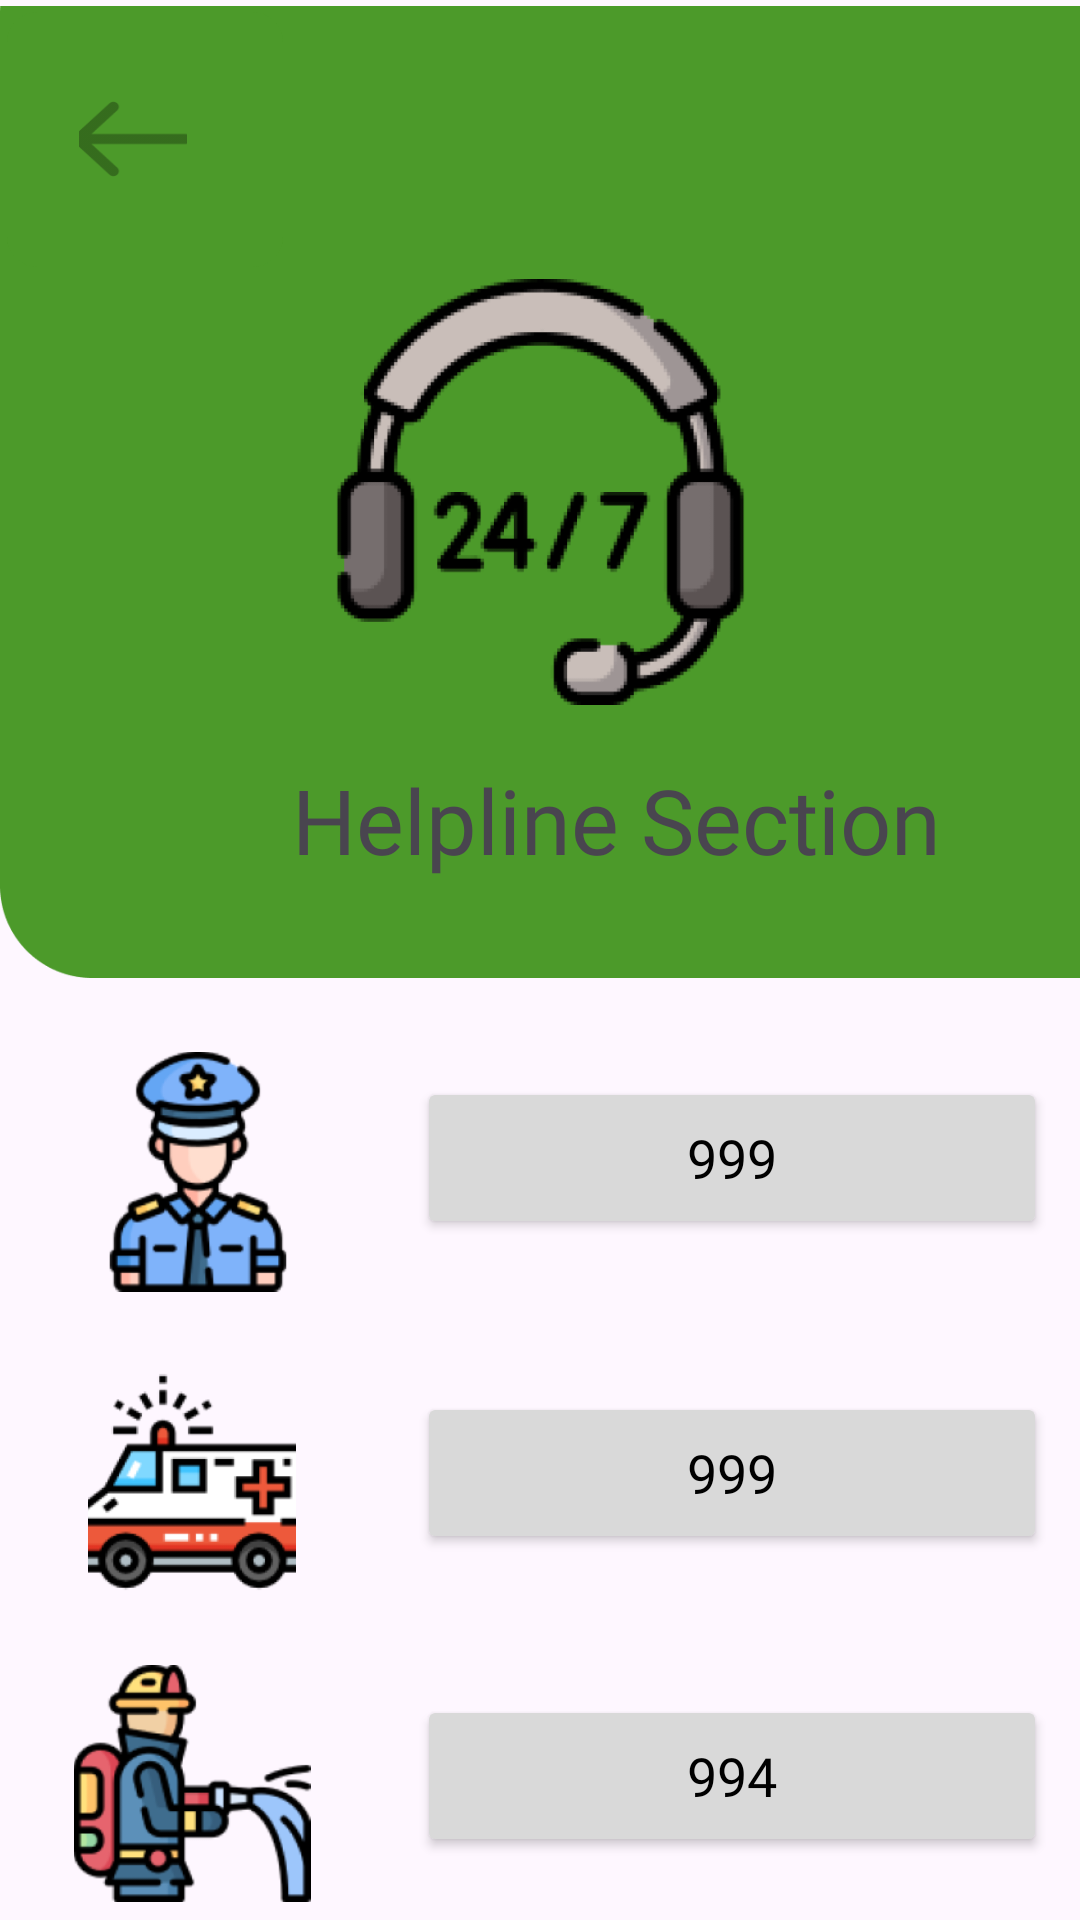

Named icons in this screenshot (1080x1920) and their centers, (x,y):
ambulance: (192,1482)
fireman: (192,1783)
police: (198,1172)
return button: (133,139)
